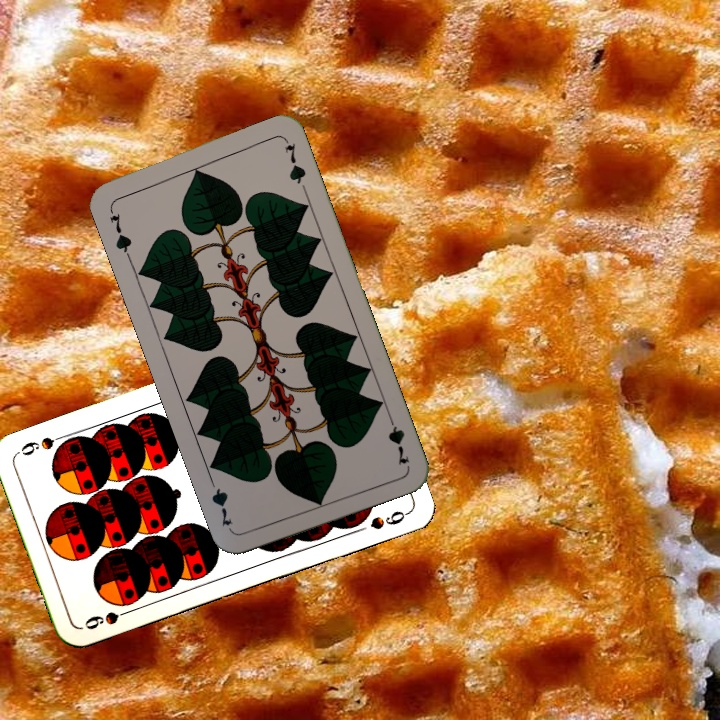G7: (383, 409, 412, 468), (105, 203, 134, 261)
S9: (80, 604, 137, 632)
